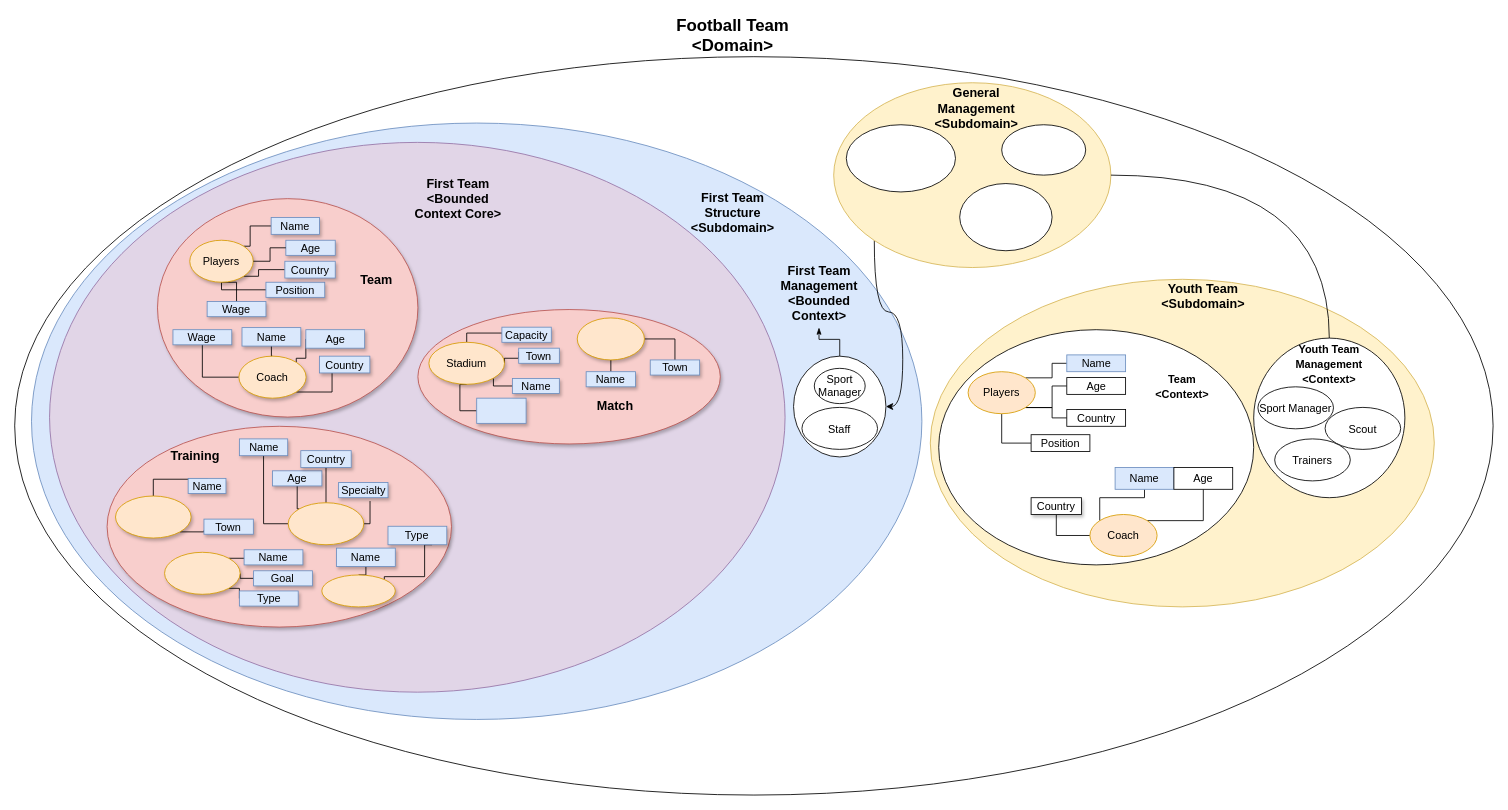
This 1508x810 diagram has some shape labels left out. Each missing label, with the centre of its shape:
Finances: (x=1043, y=149)
Marketing: (x=1005, y=217)
Rival: (x=611, y=340)
Sport: (x=900, y=158)
Square Meters: (x=501, y=411)
Trainer: (x=326, y=525)
Training Equipment: (x=359, y=592)
Training Field: (x=153, y=518)
Workout: (x=202, y=574)
